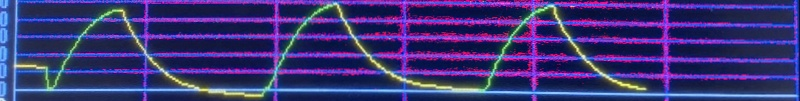normal_volume: (38, 0, 658, 97)
